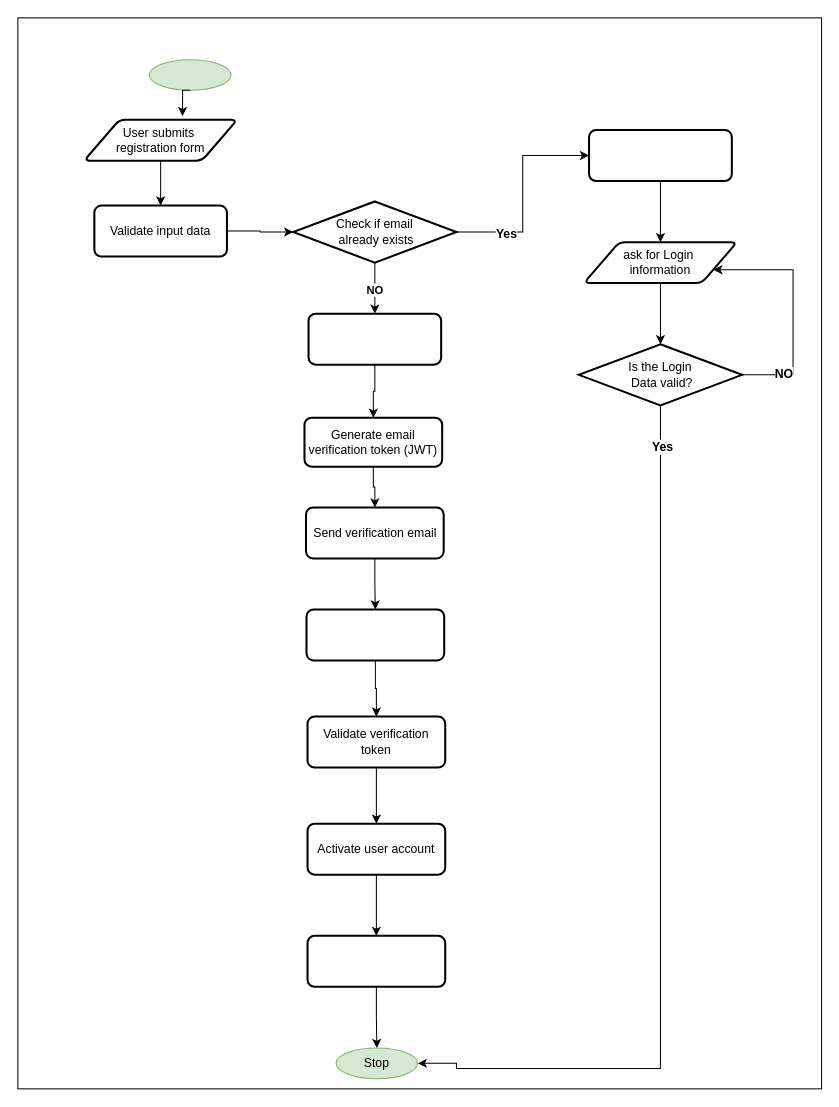
Image size: 839x1107. Some labels were removed from this diagram. Here are the shapes that lost their labels. From the top down, the box of each, then its label:
(148, 59, 231, 90): Start
(588, 129, 732, 182): Email exists → Show error
(307, 312, 442, 365): Create user record (status: unverified)
(305, 608, 445, 661): User clicks verification link
(306, 934, 446, 987): Generate authentication JWT for login
